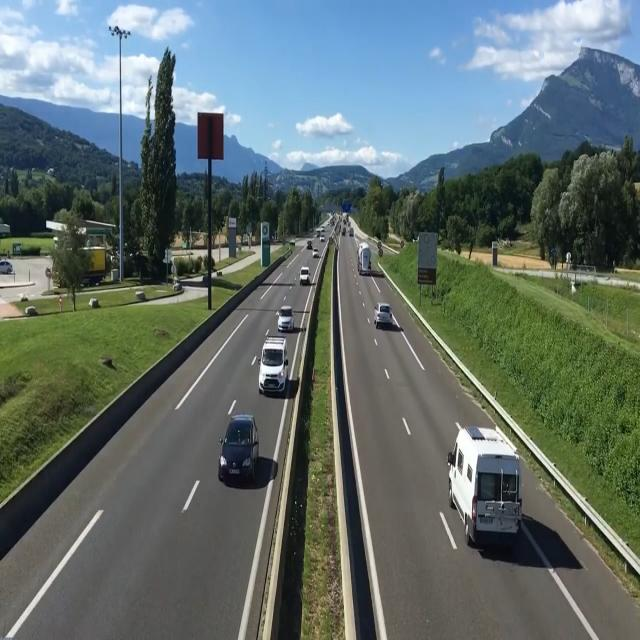car: (446, 414, 523, 556), (224, 402, 262, 486), (258, 333, 288, 398), (376, 301, 398, 334), (276, 300, 295, 334), (299, 265, 310, 288)
truck: (357, 240, 376, 276)
